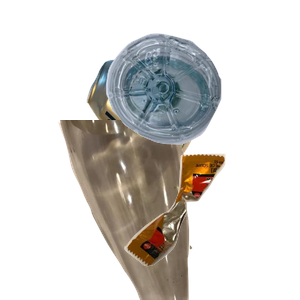glass: (56, 120, 241, 300)
metal: (84, 53, 279, 202)
plastic: (104, 31, 300, 168)
trash: (122, 151, 300, 300)
